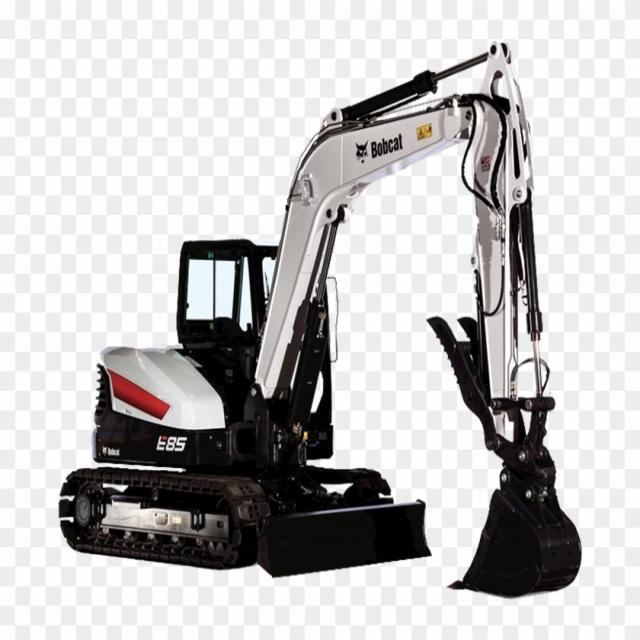C_E: (61, 41, 579, 598)
